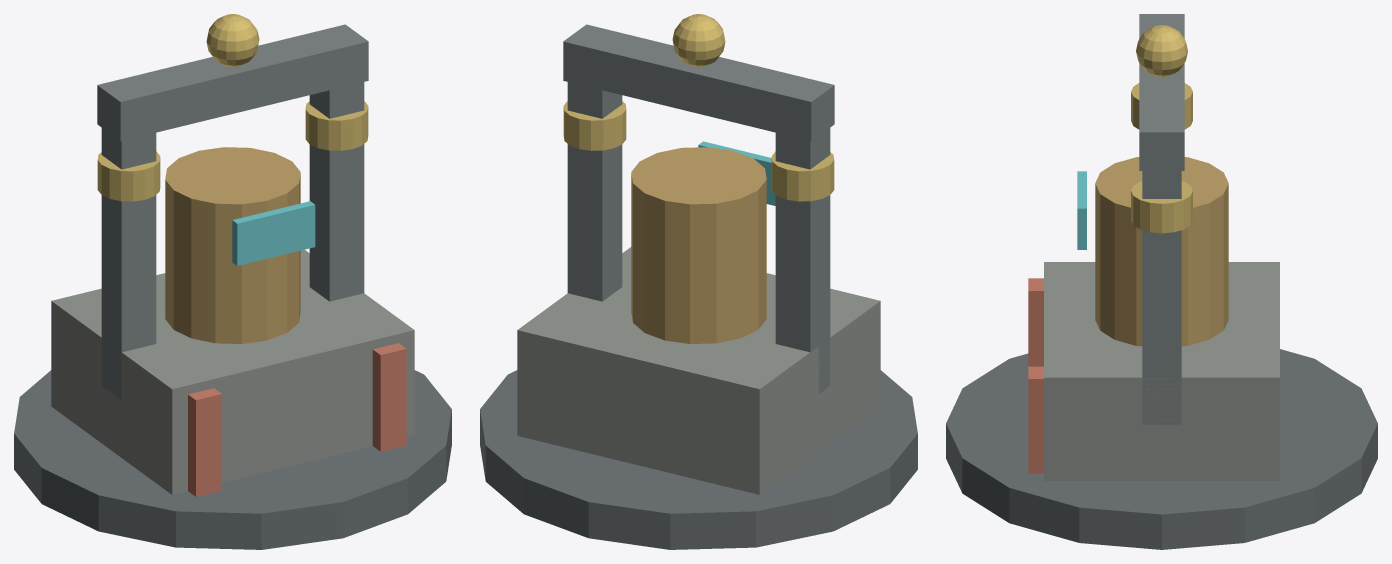
The model's file is mine.glb.
The picture shows the model from 3 angles, left to right: view 1: azimuth 30°, elevation 25°; view 2: azimuth 150°, elevation 25°; view 3: azimuth 270°, elevation 25°; orthographic projection. The views are drawn at different scales.
Size of the model in its own units: 2.65 by 2.92 by 2.65.
